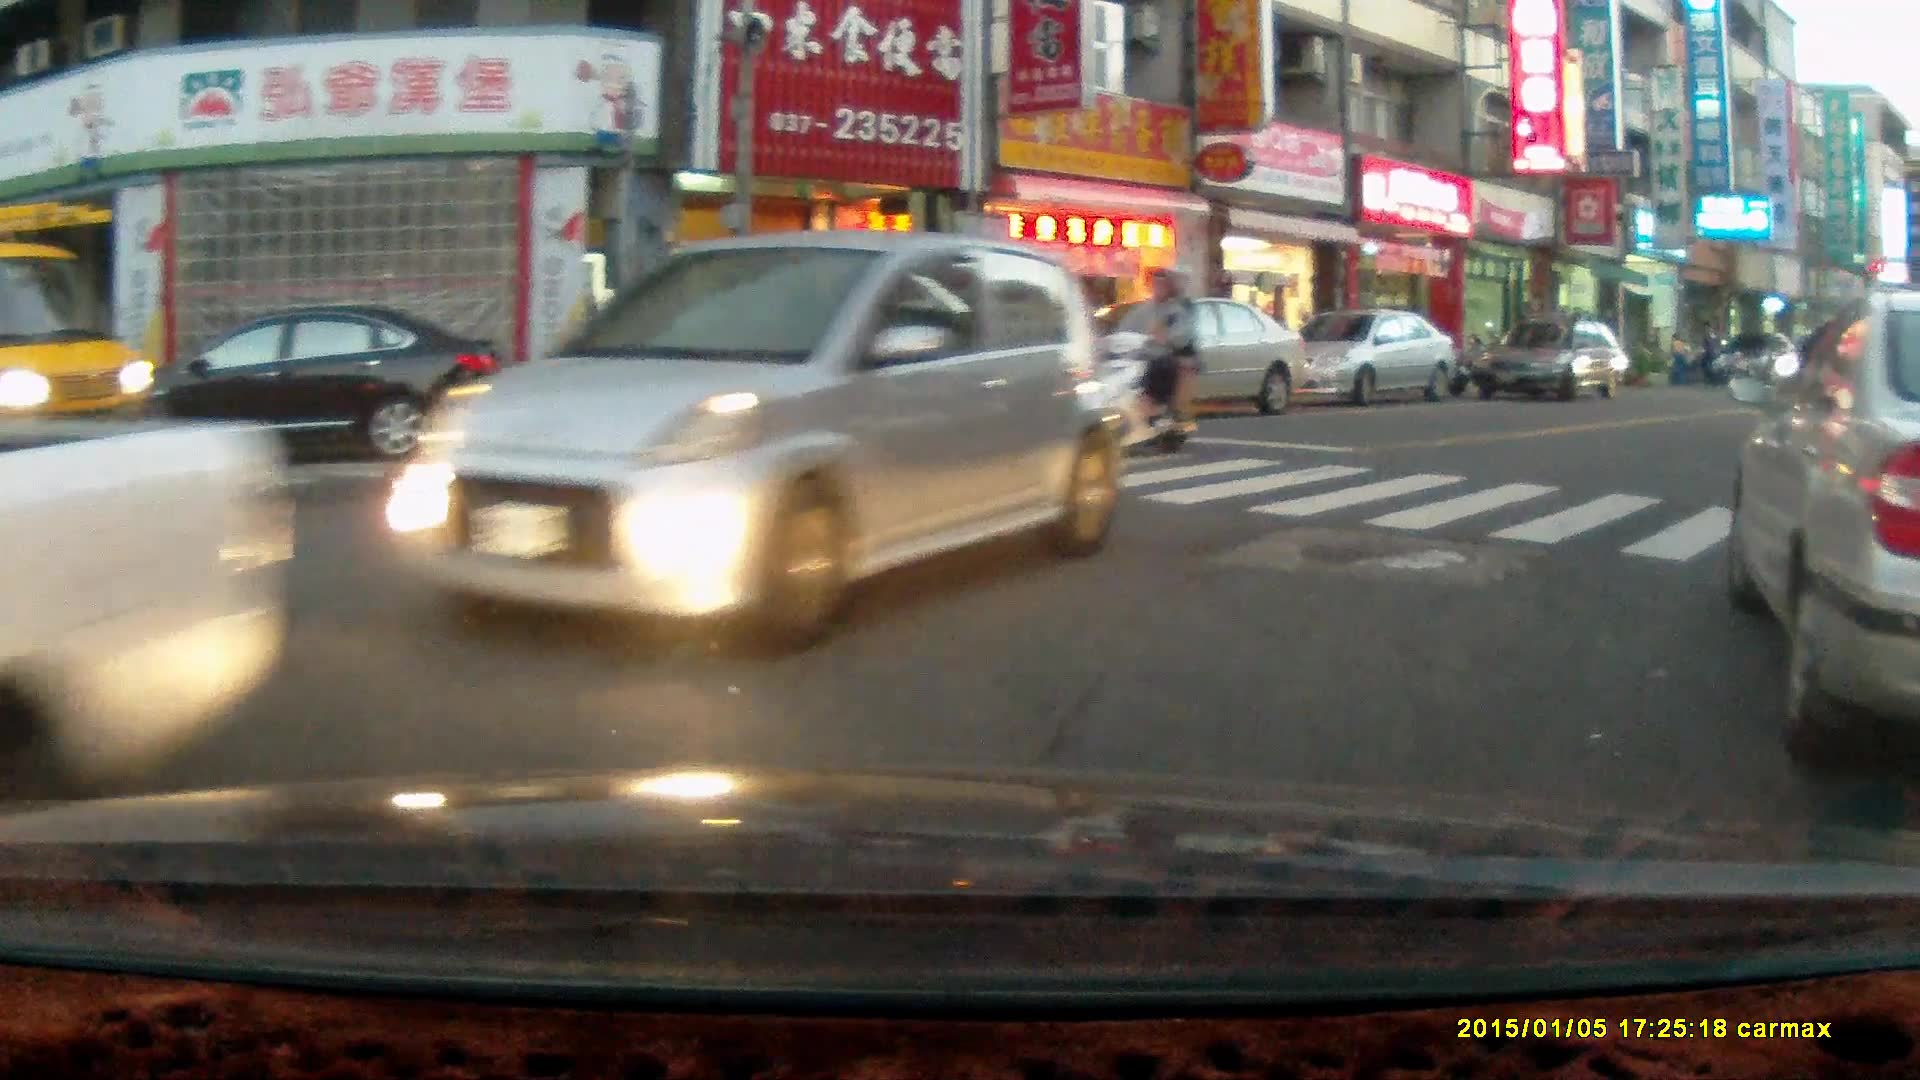rider: (1060, 260, 1200, 453)
vehicle: (385, 231, 1111, 655), (1, 422, 294, 798), (1723, 291, 1920, 774), (152, 297, 502, 457), (1120, 293, 1312, 416), (1279, 305, 1460, 400), (1471, 317, 1637, 403)
